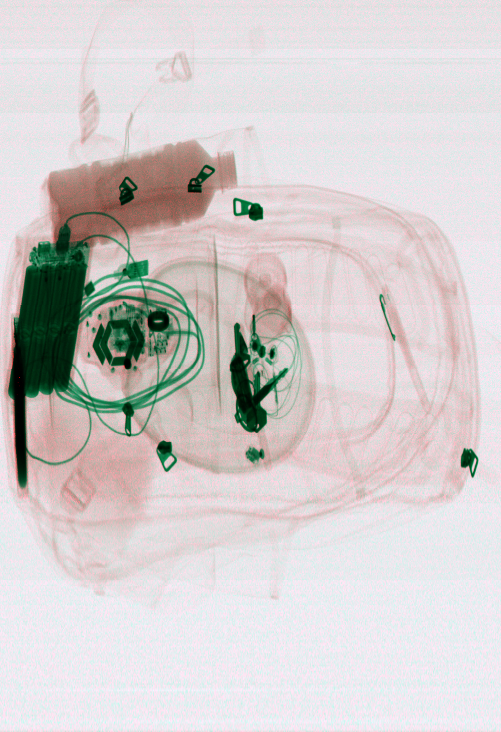Plastic Bottle: (48, 140, 239, 245)
